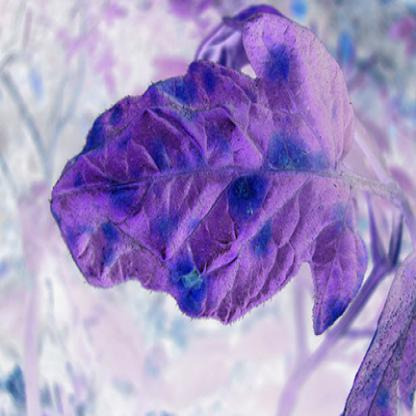tomato mold leaf: (42, 10, 377, 342)
